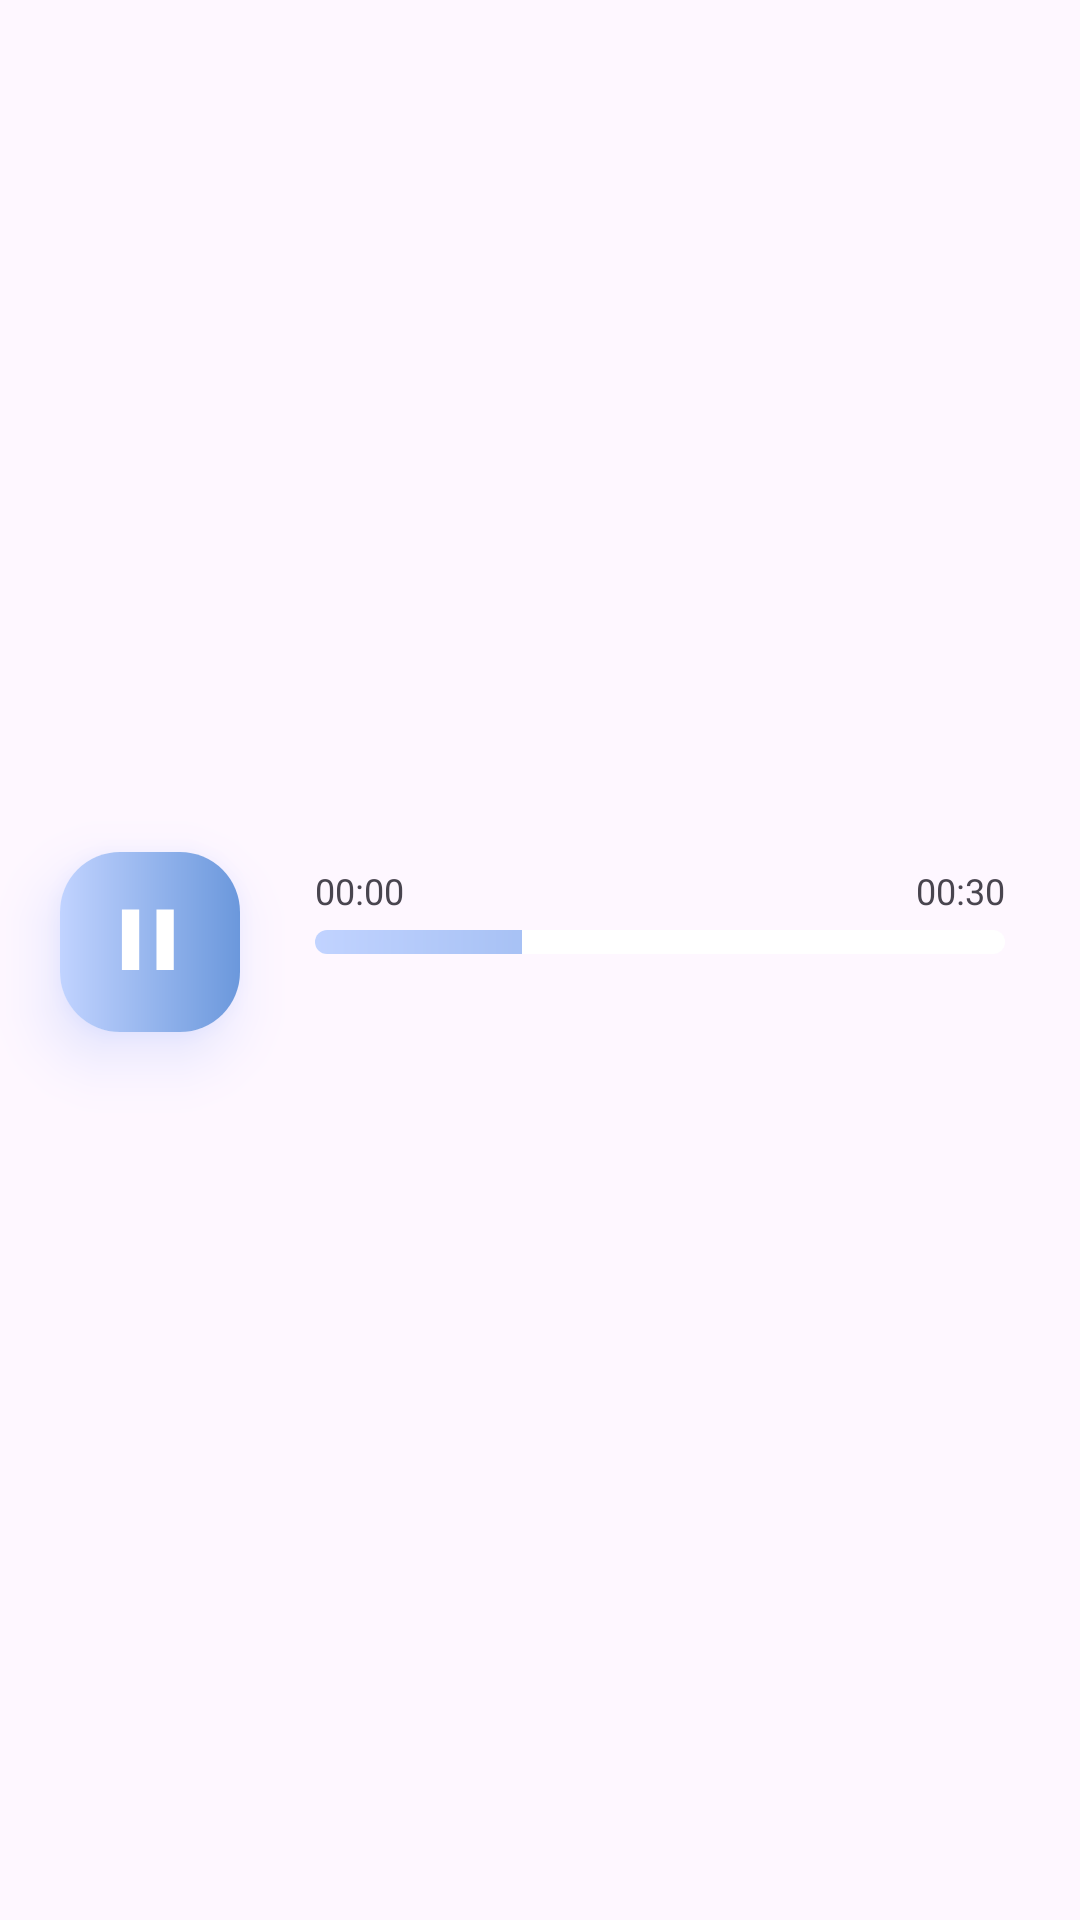

Point at icon controls on the screen. Image size 1080*1920, points as (x,y).
pause: (150,942)
